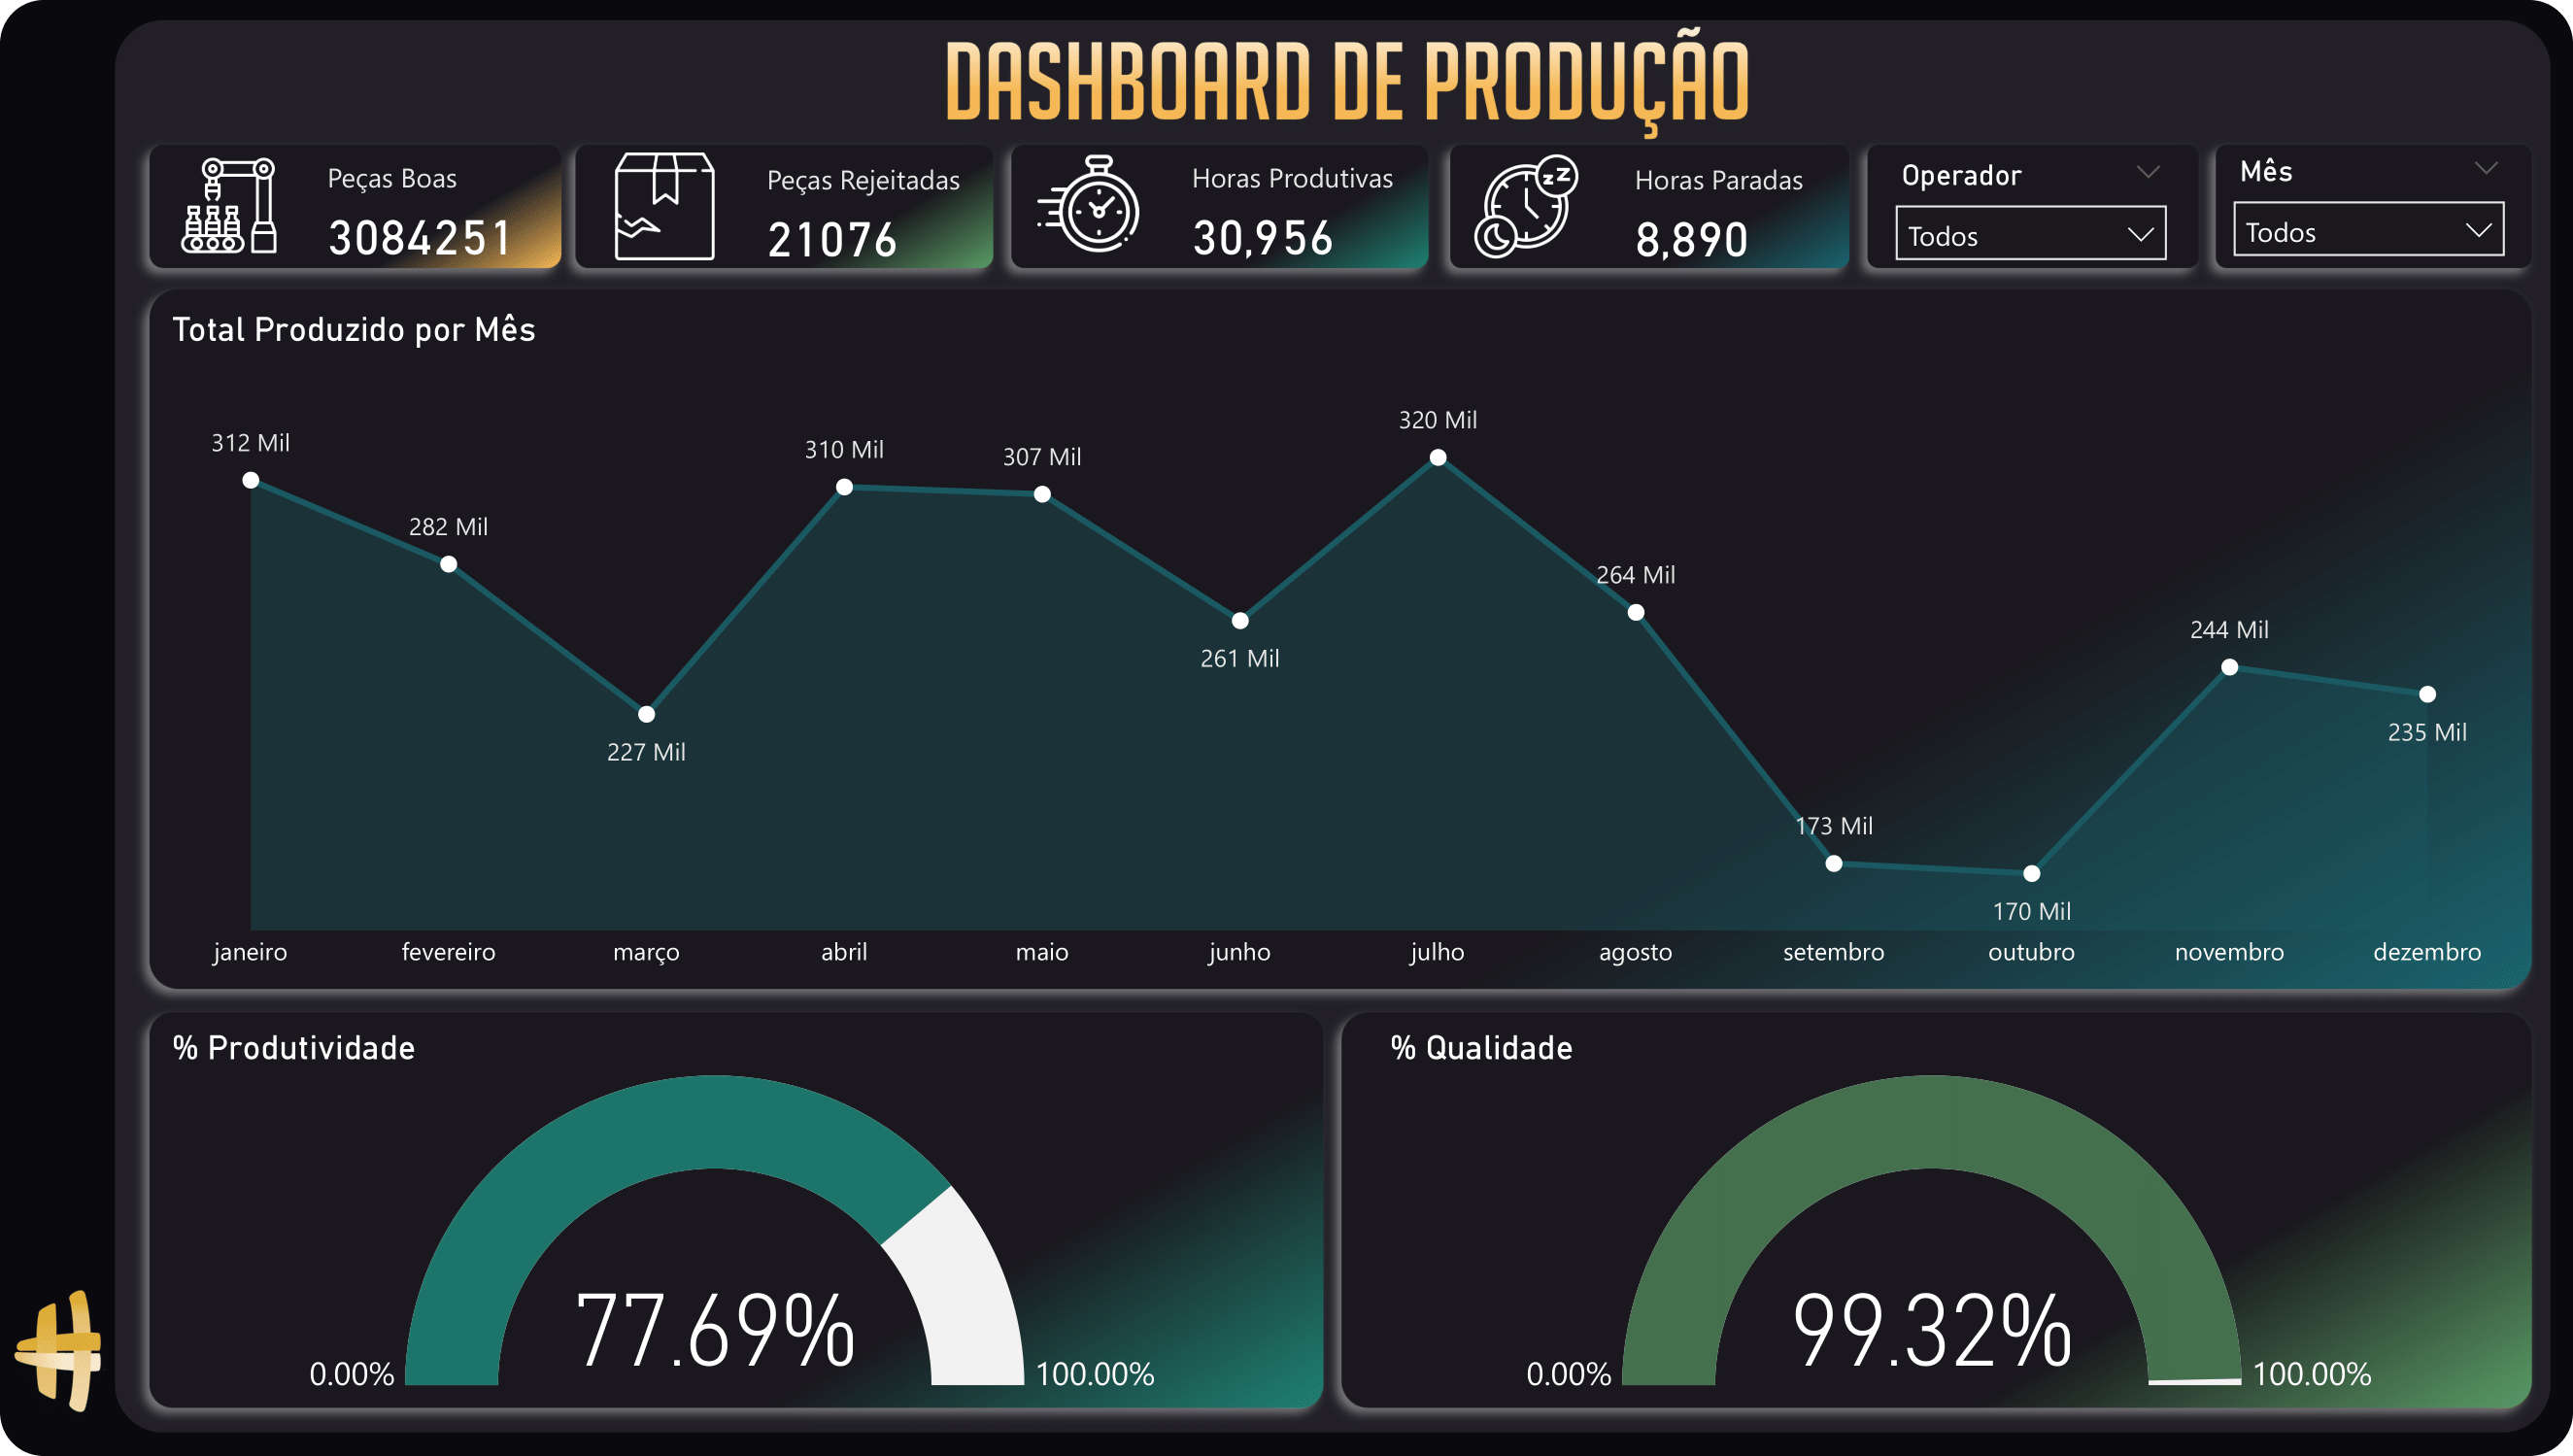

This screenshot's page, from the dashboard's own definition file:
{"tool":"powerbi","page":{"name":"Página 1","canvas":[1280,720],"ordinal":0},"visuals":[{"type":"cardVisual","fields":{"Data":["Metricas.Peças Boas"]},"box":[153.3,66.7,133.3,70],"z":0},{"type":"cardVisual","fields":{"Data":["Metricas.Peças Rejeitadas"]},"box":[370,67.9,136.4,70],"z":1000},{"type":"cardVisual","fields":{"Data":["Metricas.Horas Produtivas"]},"box":[580,66.7,137.8,70],"z":2000},{"type":"cardVisual","fields":{"Data":["Metricas.Horas Paradas"]},"box":[798.8,67.5,122.5,70],"z":3000},{"type":"areaChart","title":"Total de Peças Produzido","fields":{"Category":["Produção.Data Inicio.Variation.Hierarquia de datas.Mês"],"Y":["Metricas.Total Produzido"]},"box":[87.8,153.3,1164.4,335.6],"z":4000},{"type":"gauge","fields":{"Y":["Metricas.% Produtividade"]},"box":[88.3,508.3,563.3,186.7],"z":5000},{"type":"gauge","fields":{"Y":["Metricas.% Qualidade"]},"box":[690,508.3,563.3,186.7],"z":6000},{"type":"image","box":[88.3,71.7,65,60],"z":7000},{"type":"image","box":[306.4,71.4,63.6,62.1],"z":8000},{"type":"image","box":[511.2,71.2,68.8,60],"z":9000},{"type":"image","box":[726.2,71.2,72.5,62.5],"z":10000},{"type":"slicer","fields":{"Values":["Produção.Operador"]},"box":[935,74,154,59],"z":11000},{"type":"slicer","fields":{"Values":["Produção.Data Inicio.Variation.Hierarquia de datas.Mês"]},"box":[1102,72,154,59],"z":12000}]}

Visuals, with their boxes in screenshot pixels (x1, y1, x2, y2), scaled from the page's 1280x720 canvas onto the 2573x1456 screenshot:
cardVisual - Metricas.Peças Boas: [308,135,576,277]
cardVisual - Metricas.Peças Rejeitadas: [744,137,1018,279]
cardVisual - Metricas.Horas Produtivas: [1166,135,1443,277]
cardVisual - Metricas.Horas Paradas: [1606,137,1852,278]
"Total de Peças Produzido" areaChart: [177,310,2517,989]
gauge - Metricas.% Produtividade: [178,1028,1310,1405]
gauge - Metricas.% Qualidade: [1387,1028,2520,1405]
image: [178,145,308,266]
image: [616,145,744,270]
image: [1028,144,1166,265]
image: [1460,144,1606,270]
slicer - Produção.Operador: [1879,150,2189,269]
slicer - Produção.Data Inicio.Variation.Hierarquia de datas.Mês: [2216,146,2524,265]
